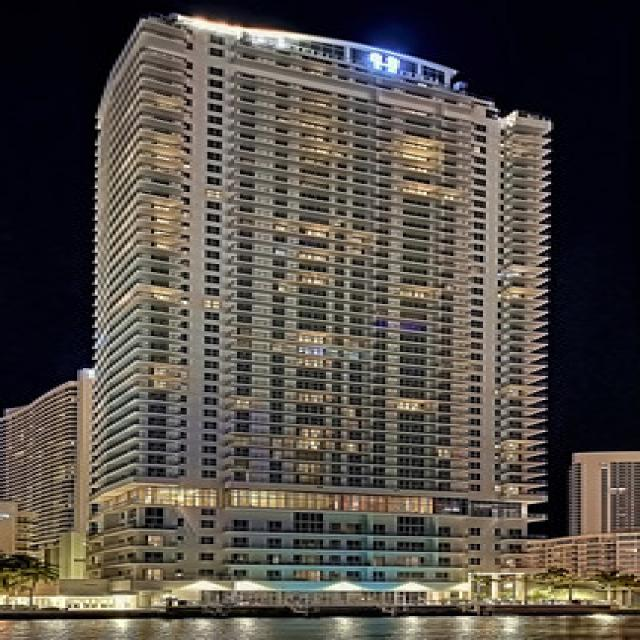Normal_building: (75, 9, 552, 602)
